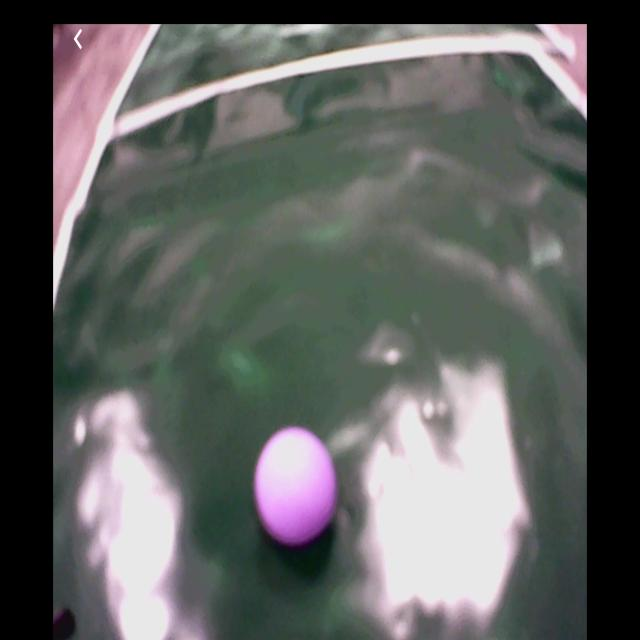ball: (253, 425, 339, 549)
